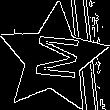M_W: (26, 33, 80, 84)
